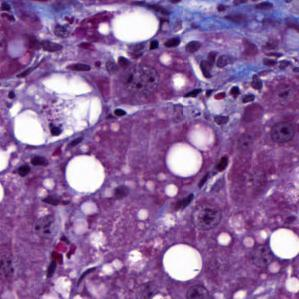ballooning: (9, 68, 104, 147)
